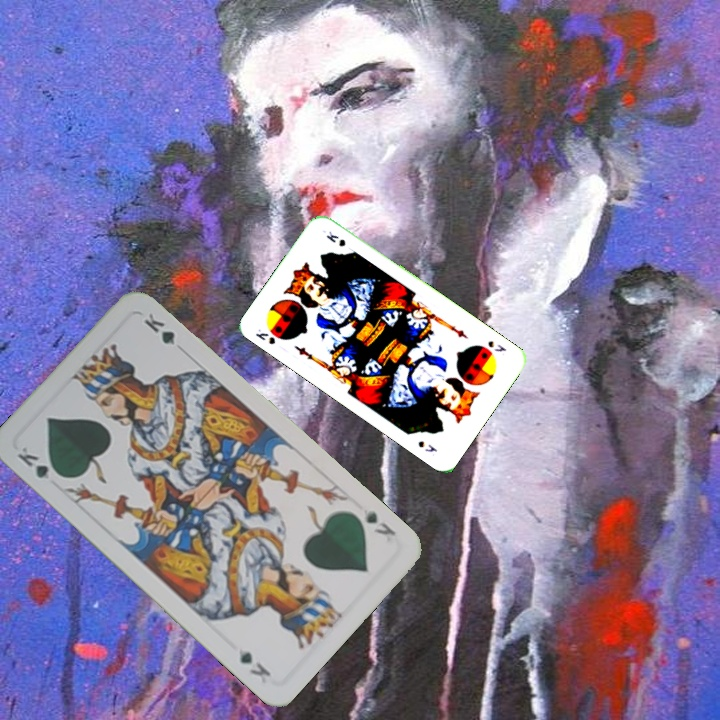GK: (13, 442, 66, 482), (361, 505, 399, 539)
SK: (251, 325, 278, 347), (484, 336, 509, 355)
